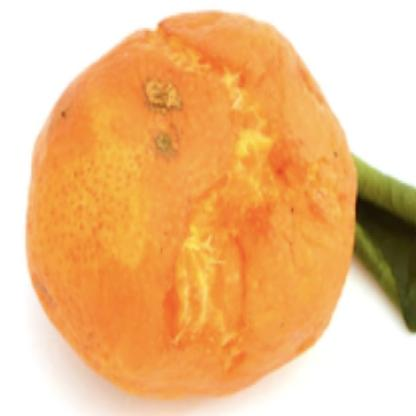rotten: (23, 12, 359, 400)
